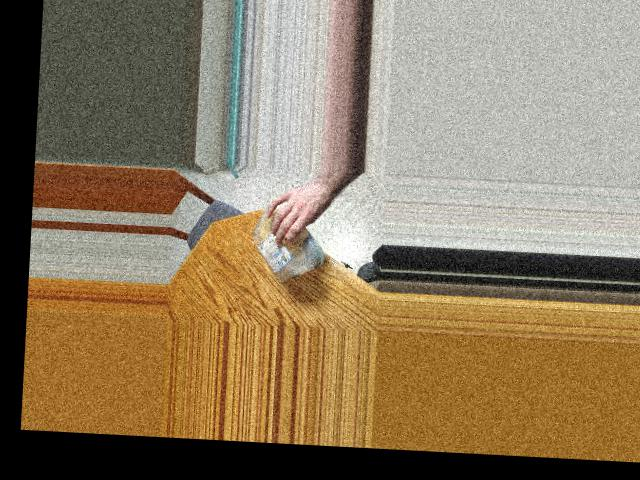cheese: (248, 193, 326, 286)
